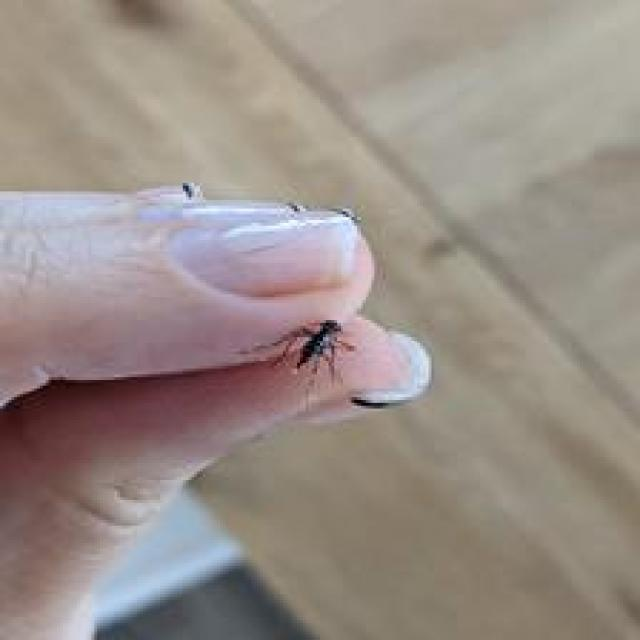Aedes albopictus: (272, 317, 357, 383)
